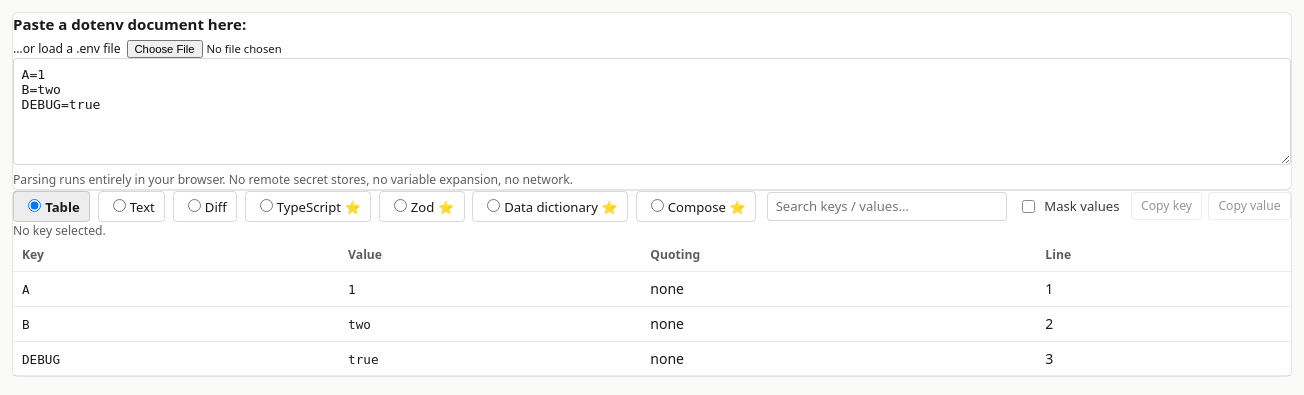
Test case: EnvApp integration › clicking a table row sets the active key + enables copy buttons
Expected: the button with test id "env-copy-key" is disabled, [1131,192,1202,220]
Expected: the button with test id "env-copy-value" is disabled, [1208,192,1291,220]
Click the row "DEBUG true none 3" at (652,358), box [13,341,1291,376]
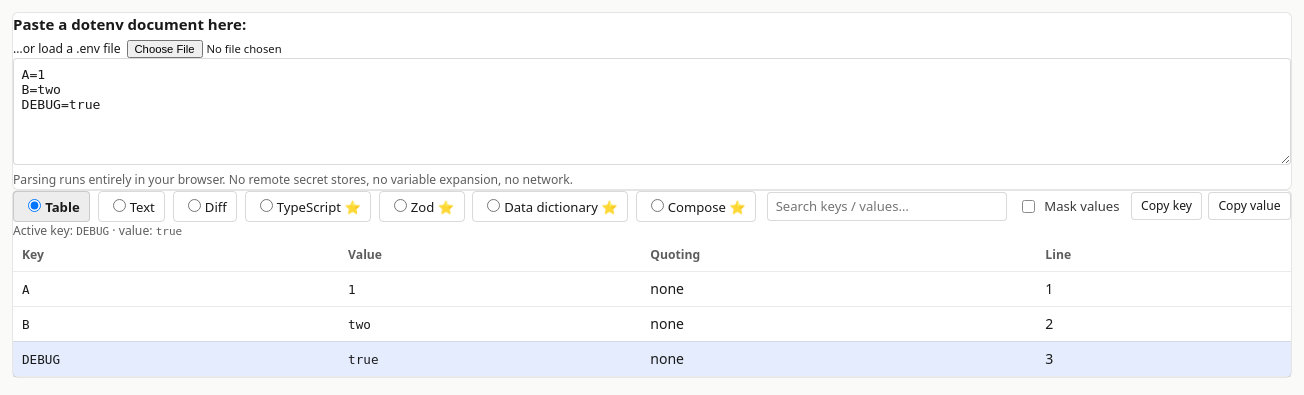
Expected: the button with test id "env-copy-key" is enabled, [1131,192,1202,220]
Expected: the button with test id "env-copy-value" is enabled, [1208,192,1291,220]
Expected: the element with test id "env-active-key" shows "DEBUG", [76,225,109,238]
